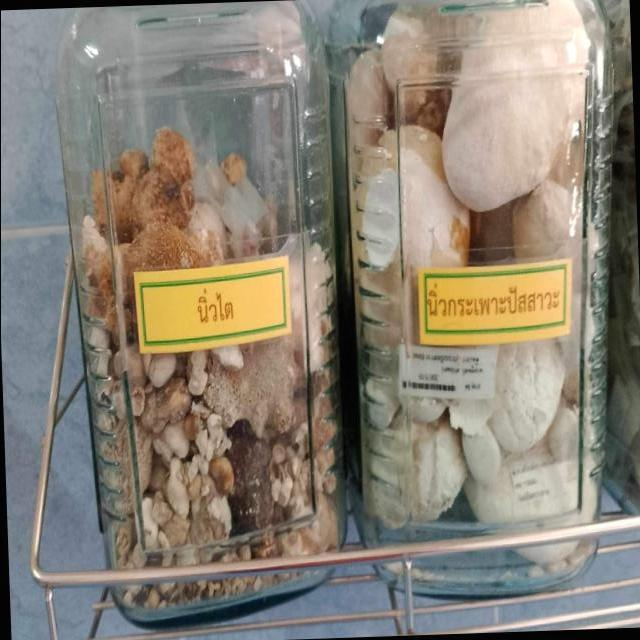General: (24, 3, 637, 638)
Pathological: (345, 3, 609, 587)
Sharps: (136, 11, 250, 31)
